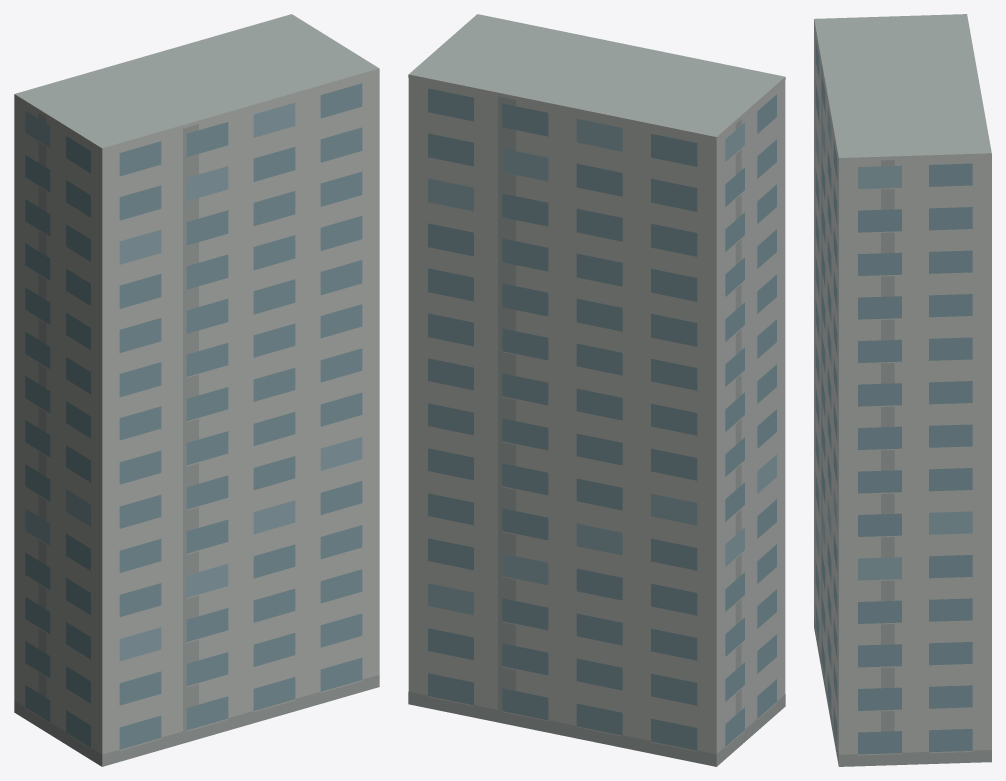
File: residential-f10e96fe-68df-468e-88d7-785addd2b542.glb
3 renders of one model, left to right at view 1: azimuth 30°, elevation 25°; view 2: azimuth 150°, elevation 25°; view 3: azimuth 270°, elevation 25°, orthographic. The views are drawn at different scales.
Visible parts, largest first — view 1: residential-f10e96fe-68df-468e-88d7-785addd2b542.tmp; view 2: residential-f10e96fe-68df-468e-88d7-785addd2b542.tmp; view 3: residential-f10e96fe-68df-468e-88d7-785addd2b542.tmp.
Part boxes in pixels (x1=…): residential-f10e96fe-68df-468e-88d7-785addd2b542.tmp: x1=14, y1=14, x2=379, y2=766; residential-f10e96fe-68df-468e-88d7-785addd2b542.tmp: x1=408, y1=14, x2=785, y2=766; residential-f10e96fe-68df-468e-88d7-785addd2b542.tmp: x1=814, y1=14, x2=991, y2=766.
Size of the model in its own units: 21.33 by 42 by 11.12.
